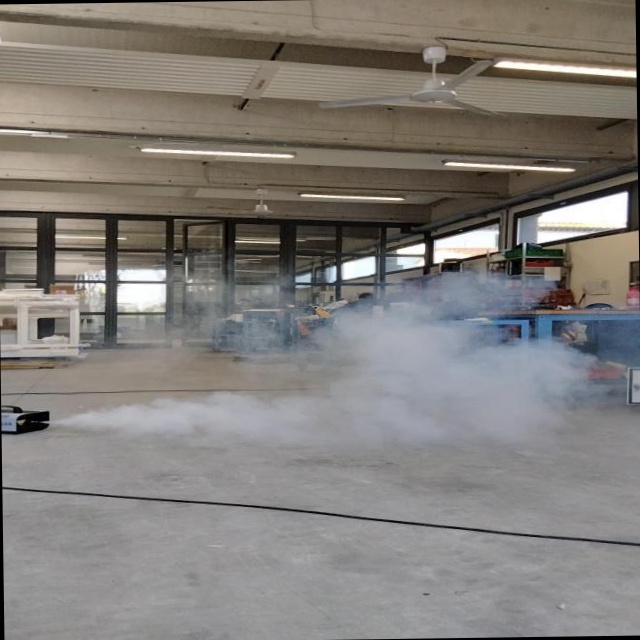smoke: (38, 267, 595, 479)
